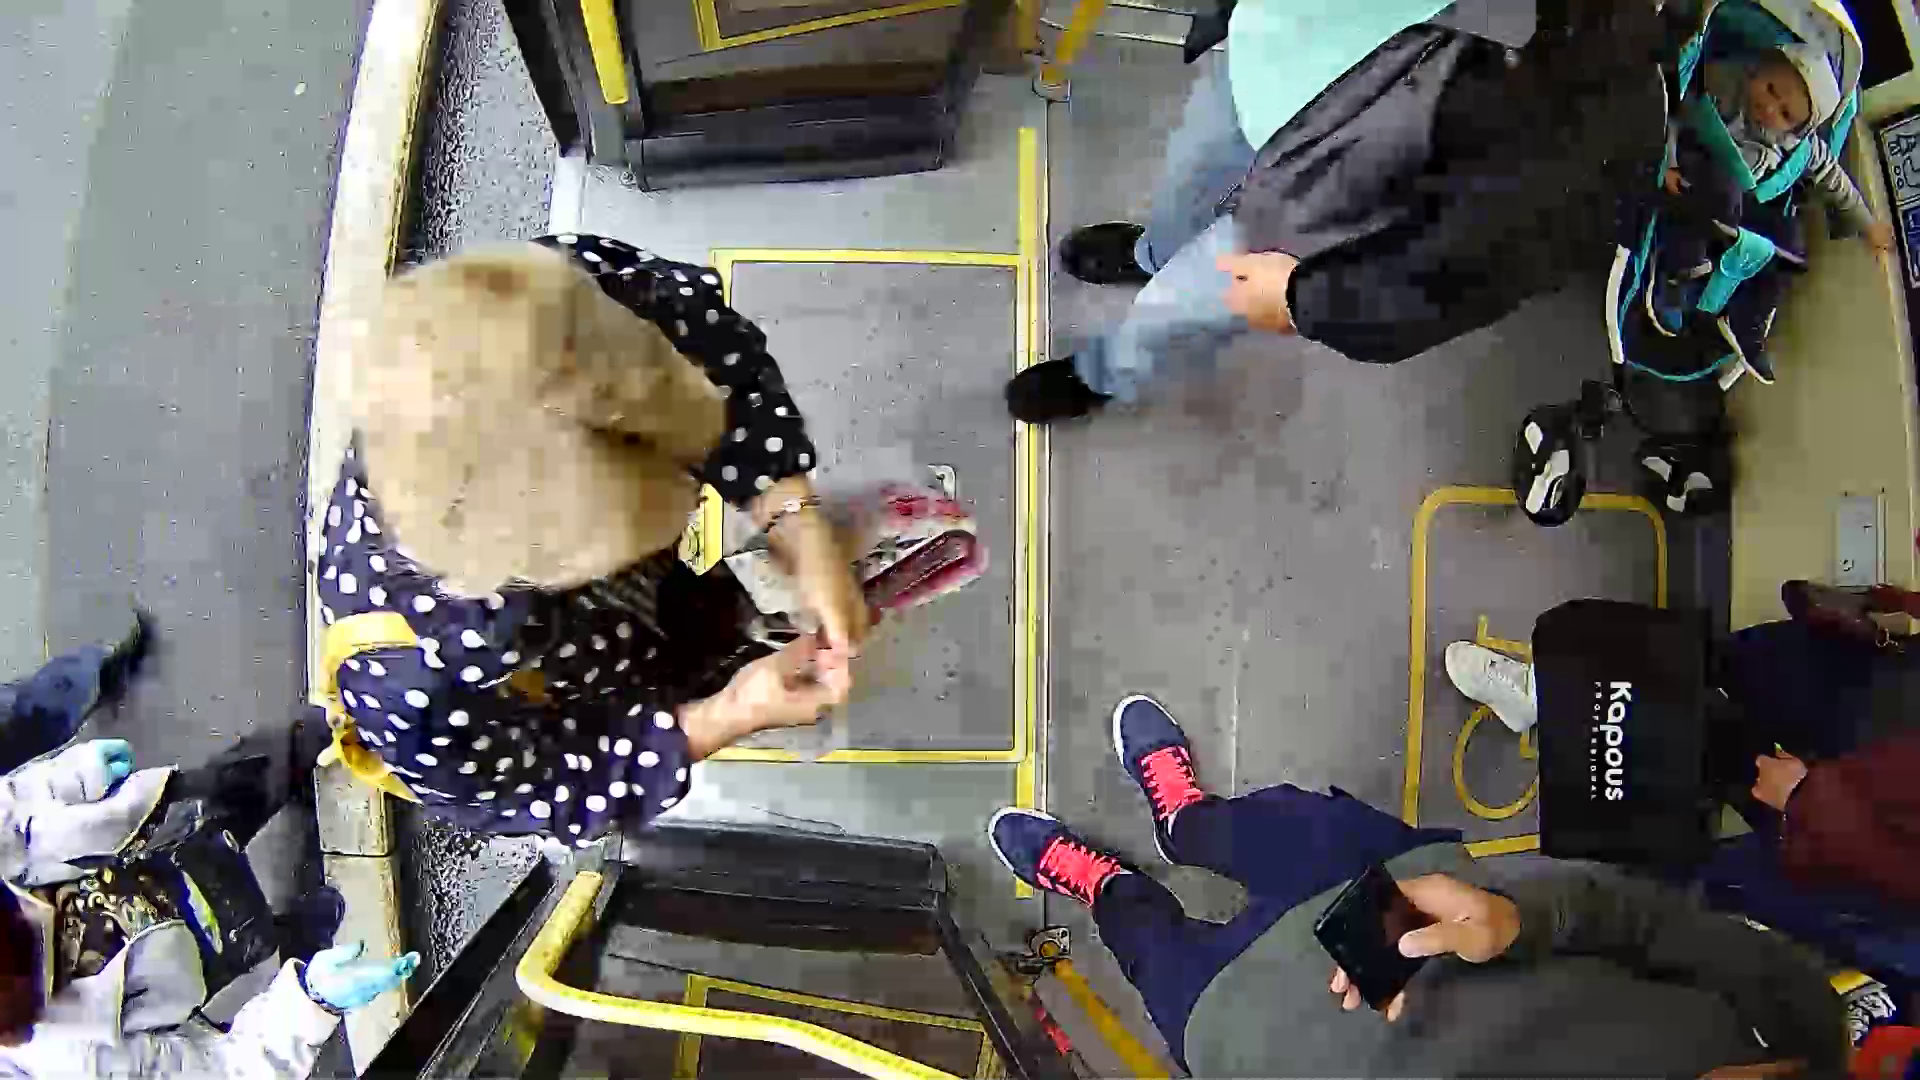person: (296, 223, 1047, 868)
